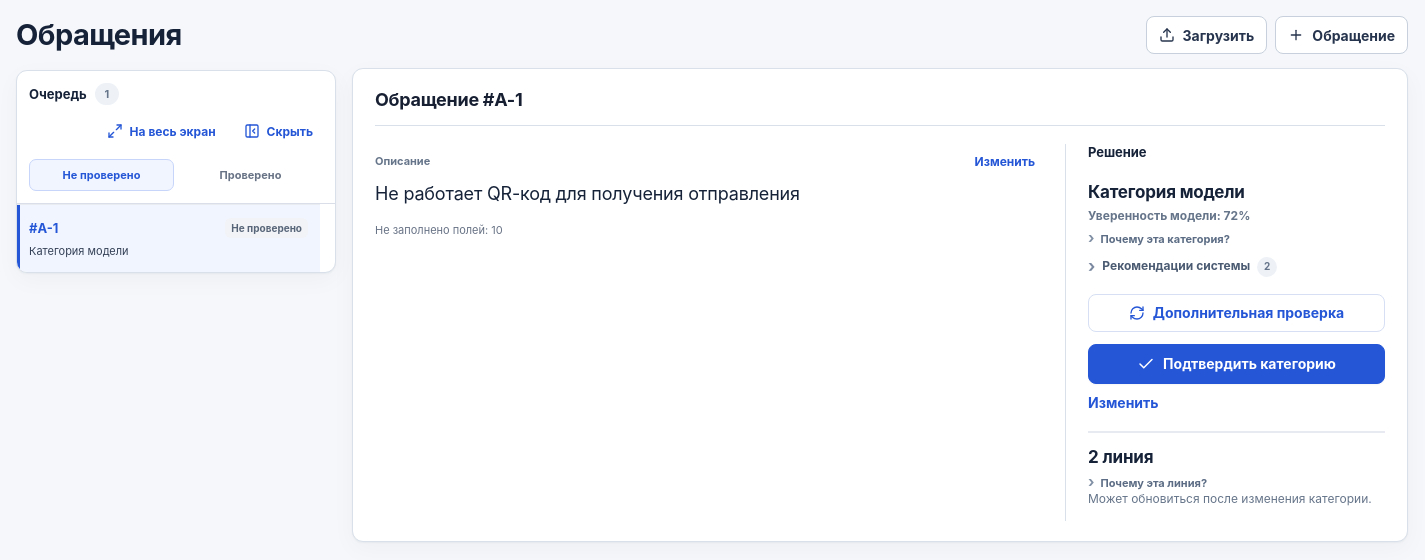
Test case: runs category -> route -> save review loop with persisted server state
Expected: the heading "Категория модели" is shown, [1088,182,1245,202]
Click the button "Подтвердить категорию" at (1236, 364), box [1088,344,1385,384]
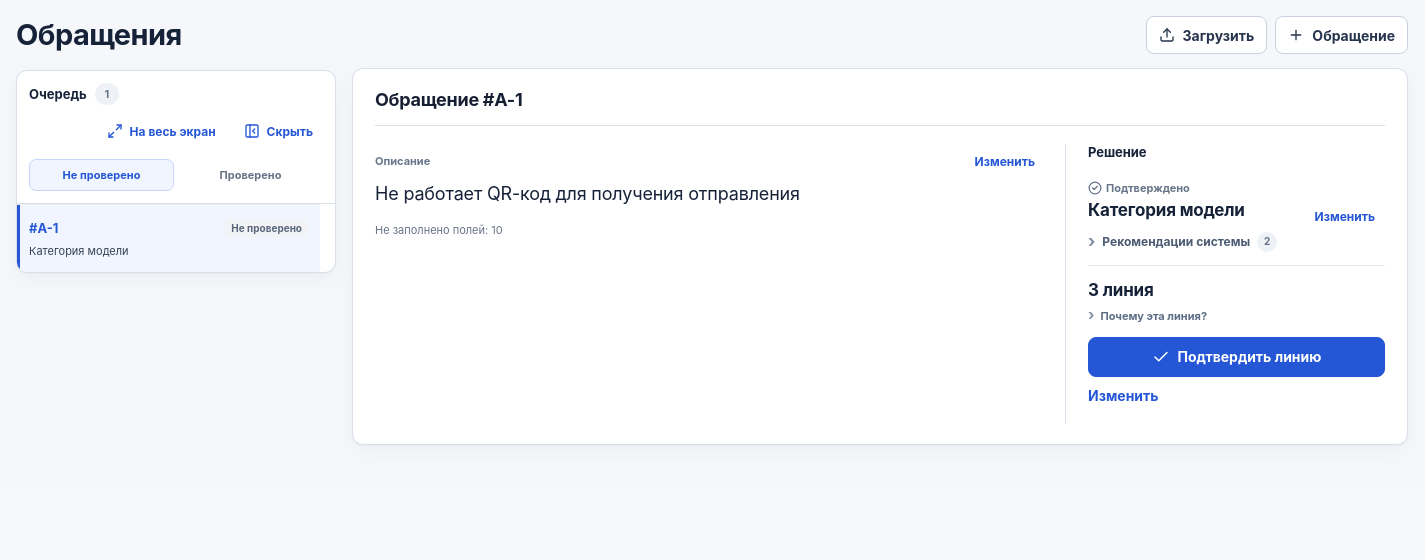
Expected: the text "Подтверждено" is shown, [1088,181,1190,195]
Expected: the heading "3 линия" is shown, [1088,280,1154,300]
Click the button "Подтвердить линию" at (1236, 357), box [1088,337,1385,377]
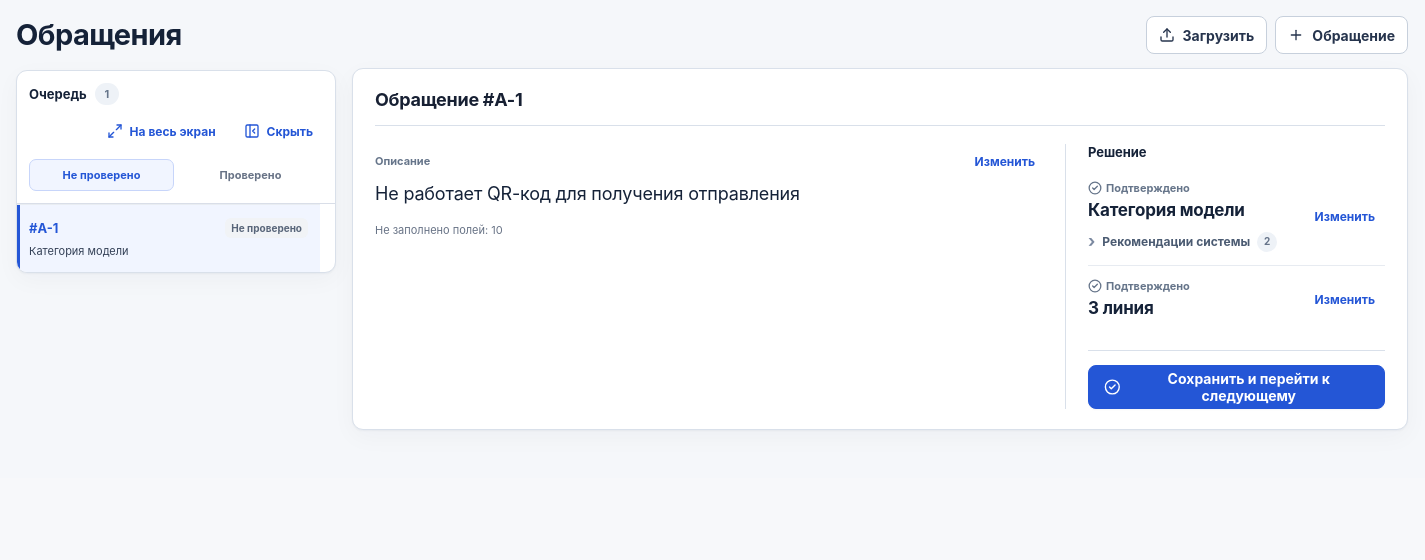
Expected: the button "Сохранить и перейти к следующему" is shown
Click the button "Сохранить и перейти к следующему" at (1236, 387), box [1088,365,1385,409]
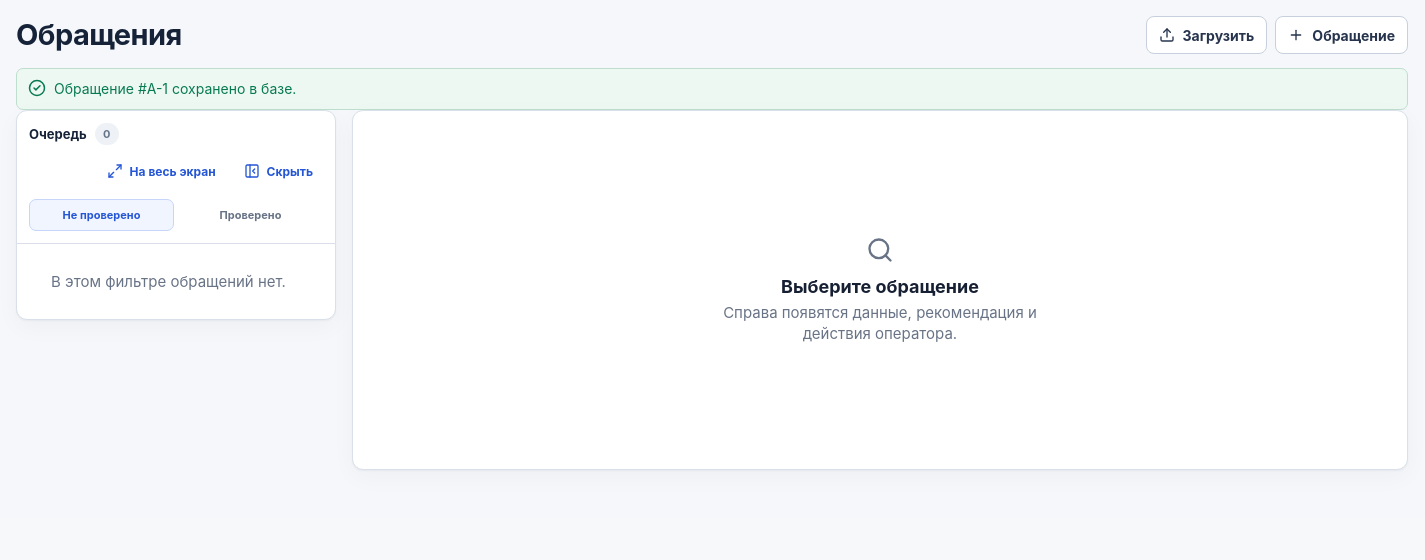
Expected: the text "Обращение #A-1 сохранено в базе." is shown, [16,68,1408,110]
Expected: the text "В этом фильтре обращений нет." is shown, [51,272,286,291]
Expected: the text "Не работает QR-код для получения отправления" is gone
Click the button "Проверено" at (250, 215), box [178,199,323,231]
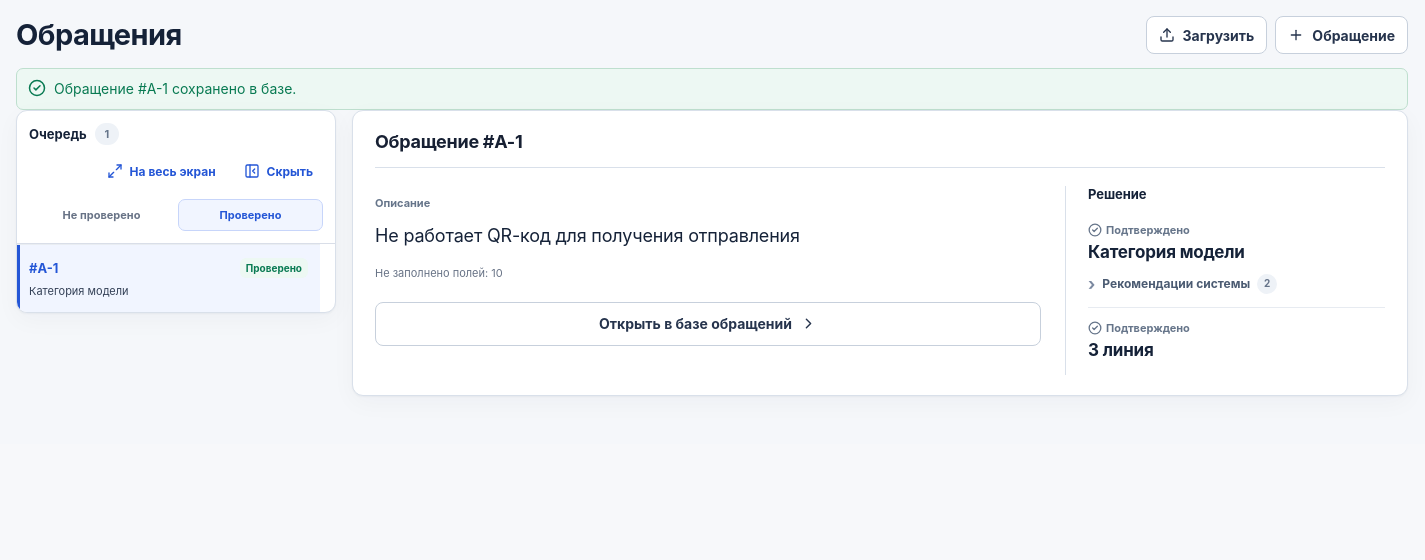
Expected: the text "Не работает QR-код для получения отправления" is shown, [375,225,800,246]
